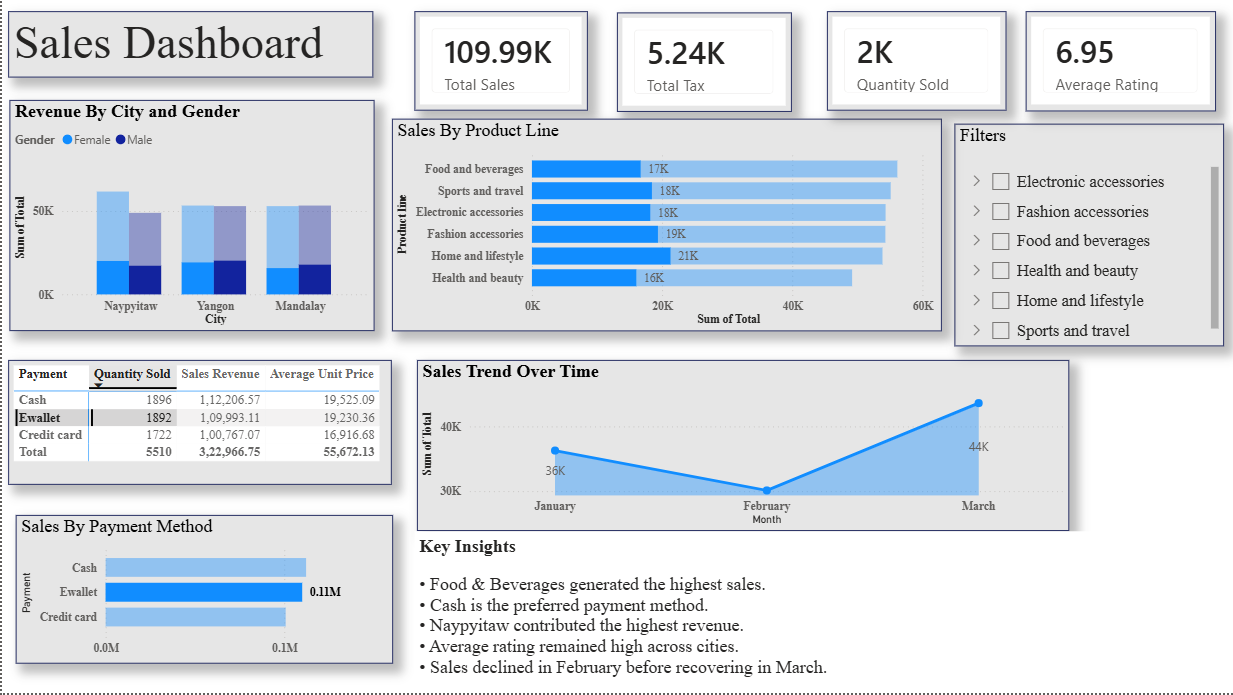

Layout of this report page (visuals, bound fields, positions):
{"tool":"powerbi","page":{"name":"Page 1","canvas":[1280,720],"ordinal":0},"visuals":[{"type":"textbox","box":[6.2,11.2,379.4,68.4],"z":0},{"type":"cardVisual","fields":{"Data":["Sum(D3.Total)"]},"box":[427.9,11.2,180.4,103.2],"z":1000},{"type":"cardVisual","fields":{"Data":["Sum(D3.Tax 5%)"]},"box":[639.4,12.4,181.6,103.2],"z":2000},{"type":"pivotTable","fields":{"Rows":["D3.Payment"],"Values":["Sum(D3.Quantity)","Sum(D3.Total)","Sum(D3.Unit price)"]},"box":[6.5,374,398.1,129.4],"z":3000},{"type":"clusteredBarChart","title":"Sales By Payment Method","fields":{"Category":["D3.Payment"],"Y":["Sum(D3.Total)"]},"box":[14.3,535.1,392.2,154.5],"z":4000},{"type":"lineClusteredColumnComboChart","title":"Revenue By City and Gender","fields":{"Category":["D3.City"],"Series":["D3.Gender"],"Y":["Sum(D3.Total)"]},"box":[7.5,103.2,379.4,240.1],"z":5000},{"type":"stackedAreaChart","title":"Sales Trend Over Time","fields":{"Category":["D3.Date.Variation.Date Hierarchy.Month"],"Y":["Sum(D3.Total)"]},"box":[431.2,374,678,177.9],"z":6000},{"type":"slicer","title":"Filters","fields":{"Values":["D3.Product line","D3.Customer type","D3.City","D3.Branch"]},"box":[989.6,128.6,279.9,231.4],"z":7000},{"type":"clusteredBarChart","title":"Sales By Product Line","fields":{"Category":["D3.Product line"],"Y":["Sum(D3.Total)"]},"box":[405.2,123.4,571.4,220.8],"z":8000},{"type":"cardVisual","fields":{"Data":["Sum(D3.Quantity)"]},"box":[857.1,11.2,186.6,103.2],"z":9000},{"type":"textbox","box":[428.6,551.9,849.4,167.5],"z":10000},{"type":"cardVisual","fields":{"Data":["Avg(D3.Rating)"]},"box":[1063.6,11.7,197.4,103.9],"z":11000}]}

Visuals, with their boxes in screenshot pixels (x1, y1, x2, y2), scaled from the page's 1280x720 canvas onto the 1233x695 screenshot:
textbox: (left=6, top=11, right=371, bottom=77)
cardVisual - Sum(D3.Total): (left=412, top=11, right=586, bottom=110)
cardVisual - Sum(D3.Tax 5%): (left=616, top=12, right=791, bottom=112)
pivotTable - D3.Payment x Sum(D3.Quantity): (left=6, top=361, right=390, bottom=486)
"Sales By Payment Method" clusteredBarChart: (left=14, top=517, right=392, bottom=666)
"Revenue By City and Gender" lineClusteredColumnComboChart: (left=7, top=100, right=373, bottom=331)
"Sales Trend Over Time" stackedAreaChart: (left=415, top=361, right=1068, bottom=533)
"Filters" slicer: (left=953, top=124, right=1223, bottom=348)
"Sales By Product Line" clusteredBarChart: (left=390, top=119, right=941, bottom=332)
cardVisual - Sum(D3.Quantity): (left=826, top=11, right=1005, bottom=110)
textbox: (left=413, top=533, right=1231, bottom=694)
cardVisual - Avg(D3.Rating): (left=1025, top=11, right=1215, bottom=112)
